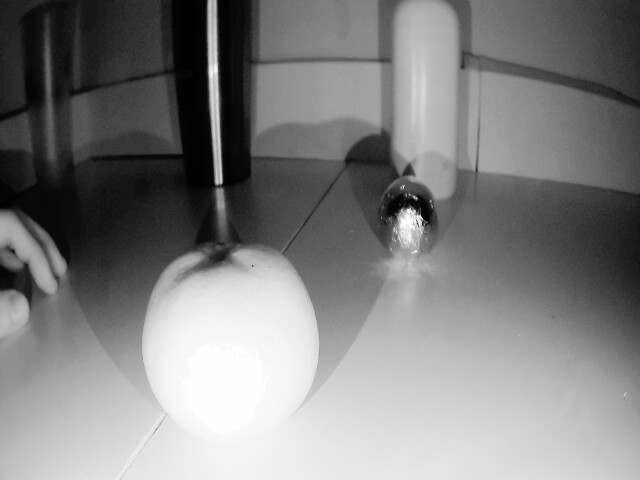silver: (380, 178, 444, 245)
